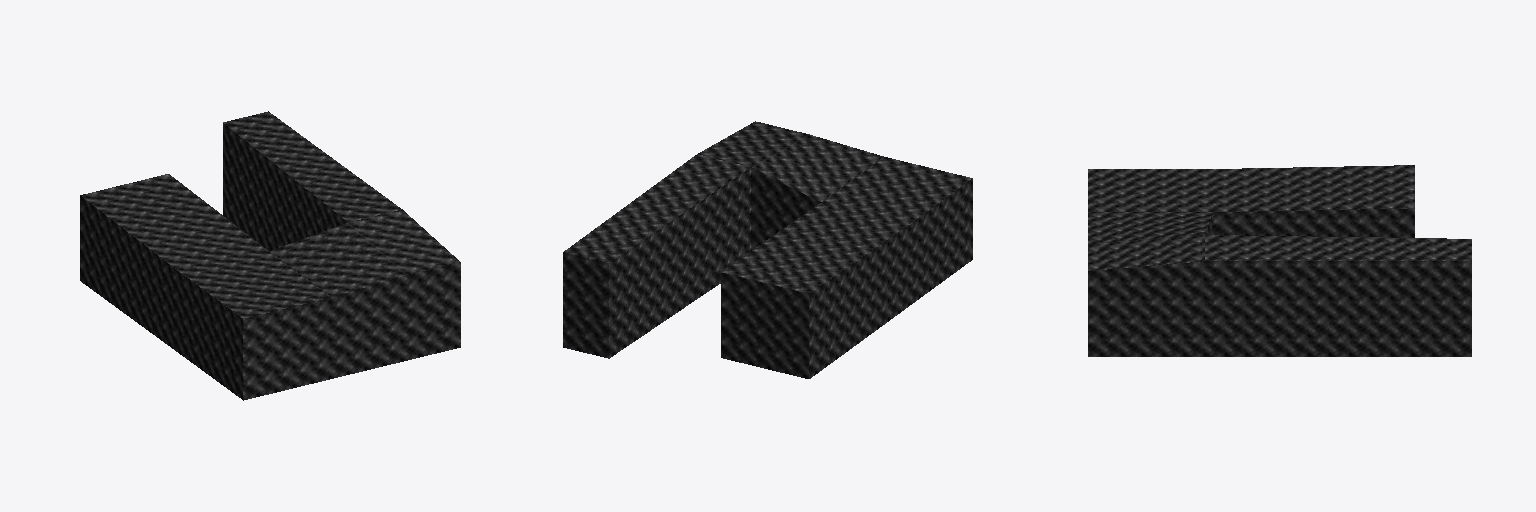
3 renders of one model, left to right at view 1: azimuth 30°, elevation 25°; view 2: azimuth 150°, elevation 25°; view 3: azimuth 270°, elevation 25°, orthographic.
Parts seen in each view (by area): view 1: Cube; view 2: Cube; view 3: Cube.
Boxes of the visible parts, <box> form: Cube: <box>80,111,460,400</box>; Cube: <box>563,121,972,378</box>; Cube: <box>1088,165,1471,356</box>.
Size of the model in its own units: 12.09 by 5.08 by 18.53.
Materials: 1 (1 with a texture image).